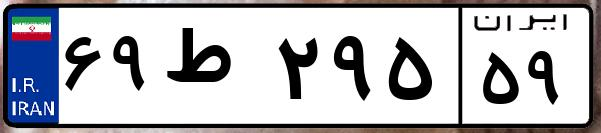2: (270, 28, 330, 110)
5: (385, 28, 445, 110), (475, 38, 525, 113)
6: (57, 26, 110, 100)
9: (330, 28, 385, 110), (525, 38, 570, 115), (110, 28, 158, 98)
ط: (158, 20, 270, 120)
